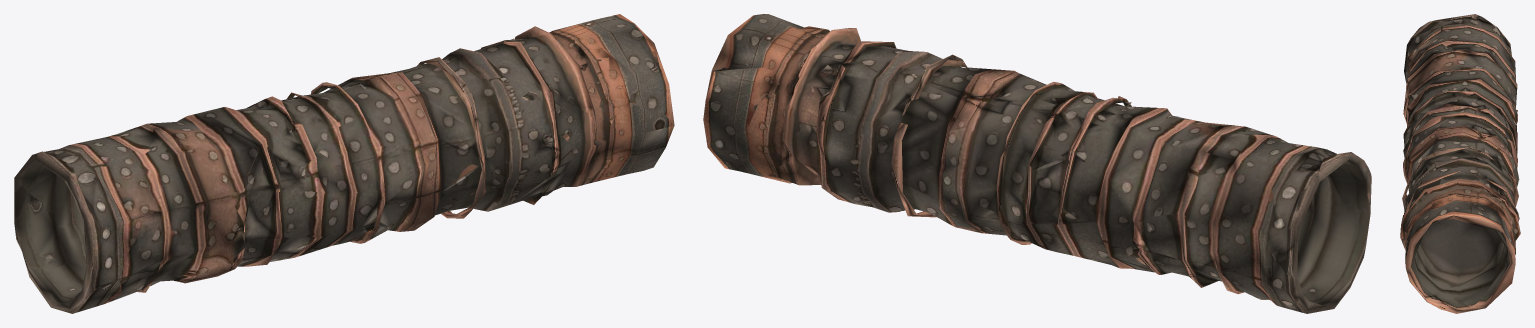
File: tunnelB.glb
3 renders of one model, left to right at view 1: azimuth 30°, elevation 25°; view 2: azimuth 150°, elevation 25°; view 3: azimuth 270°, elevation 25°, orthographic. The views are drawn at different scales.
Parts seen in each view (by area): view 1: tripo_node_519badcf-ee83-4f53-b4f5-ff16523208e9; view 2: tripo_node_519badcf-ee83-4f53-b4f5-ff16523208e9; view 3: tripo_node_519badcf-ee83-4f53-b4f5-ff16523208e9.
Boxes of the visible parts, box(x1,y1,x2,y2) form: tripo_node_519badcf-ee83-4f53-b4f5-ff16523208e9: box(14, 14, 674, 313); tripo_node_519badcf-ee83-4f53-b4f5-ff16523208e9: box(703, 14, 1371, 313); tripo_node_519badcf-ee83-4f53-b4f5-ff16523208e9: box(1400, 14, 1520, 313).
Bounding box in the file's own units: 0.98 × 0.2505 × 0.2507.
1 material, 1 textured.
